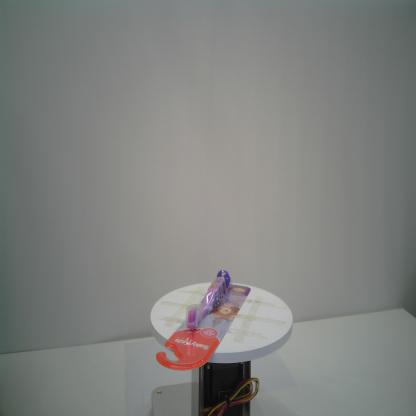Personal Hygiene: (156, 268, 251, 370)
